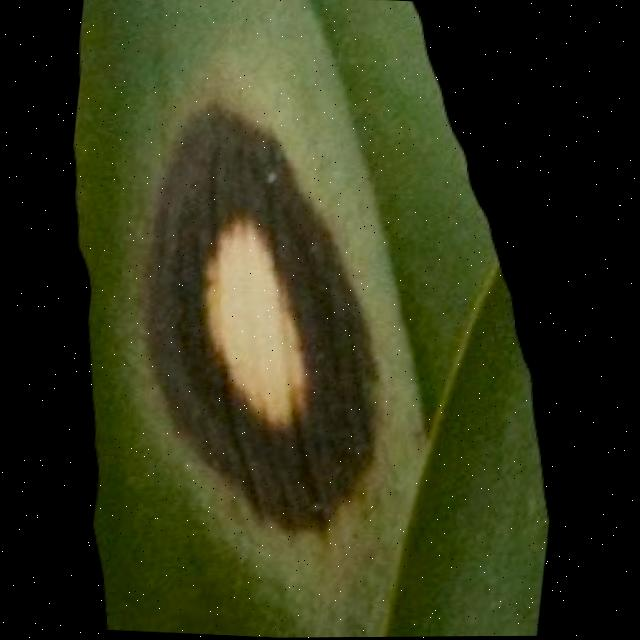mite: (243, 137, 298, 196), (262, 169, 285, 189)
sunburn: (118, 95, 424, 548)
